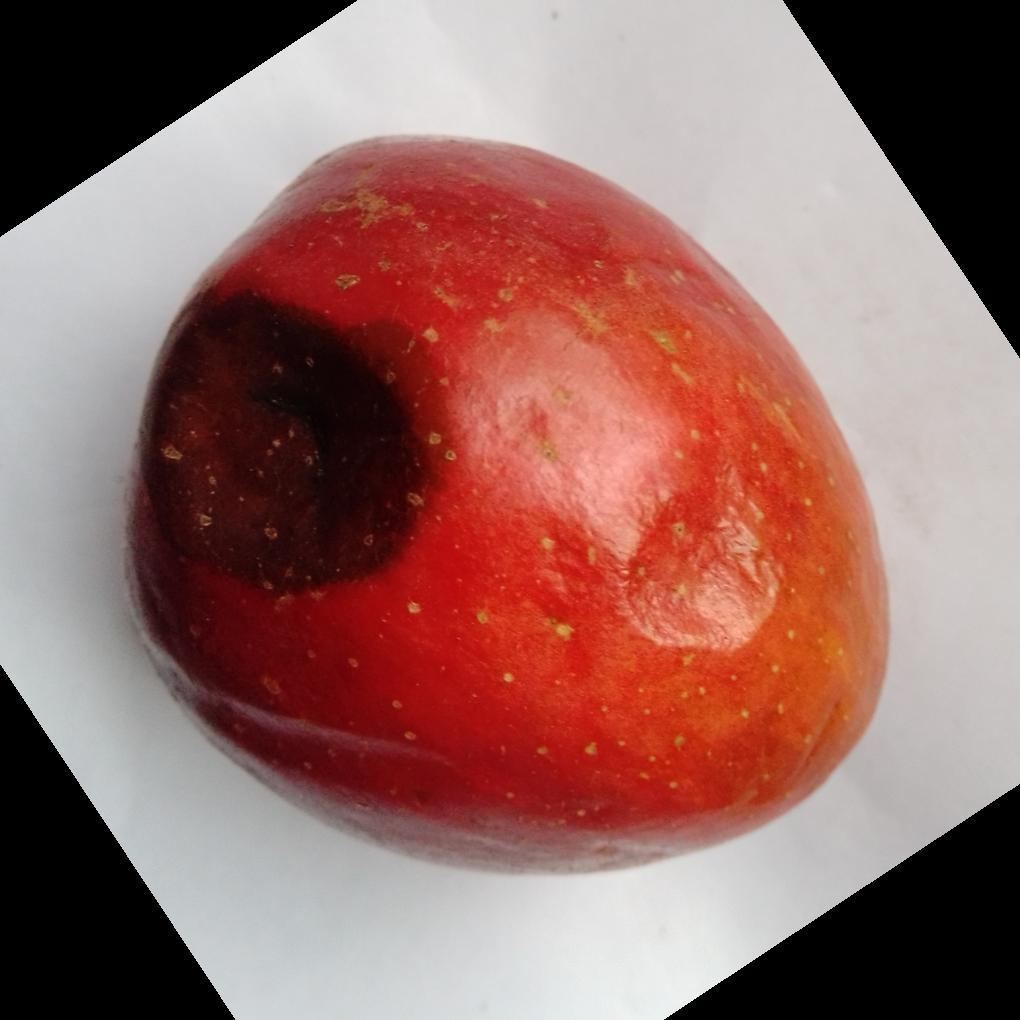FreshOrange: (122, 135, 890, 879)
